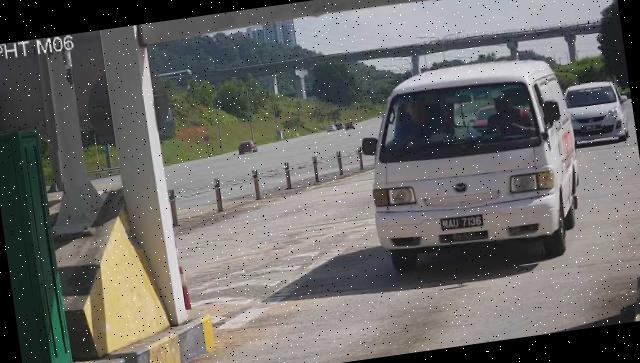License_Plate: (440, 211, 487, 234)
van: (358, 52, 591, 281)
